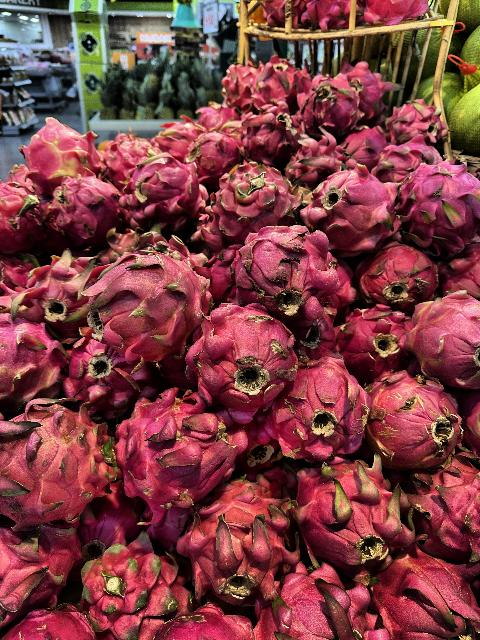buah-naga-belum-matang: (282, 460, 418, 572), (0, 406, 120, 530), (74, 553, 194, 635), (406, 296, 480, 390), (211, 160, 297, 232), (1, 318, 66, 406), (18, 118, 98, 184)
buah-naga-matang: (102, 389, 250, 505), (74, 253, 218, 357), (184, 301, 304, 419), (184, 499, 306, 596), (226, 224, 344, 322), (357, 368, 467, 472), (370, 552, 480, 640), (274, 362, 366, 458), (296, 167, 396, 249), (271, 568, 383, 640), (0, 522, 86, 612), (118, 149, 206, 231), (398, 166, 480, 252), (12, 256, 102, 326), (37, 178, 123, 250), (328, 307, 418, 373), (352, 241, 442, 305), (0, 180, 40, 256)
